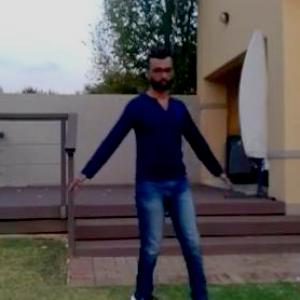land: (72, 61, 220, 299)
